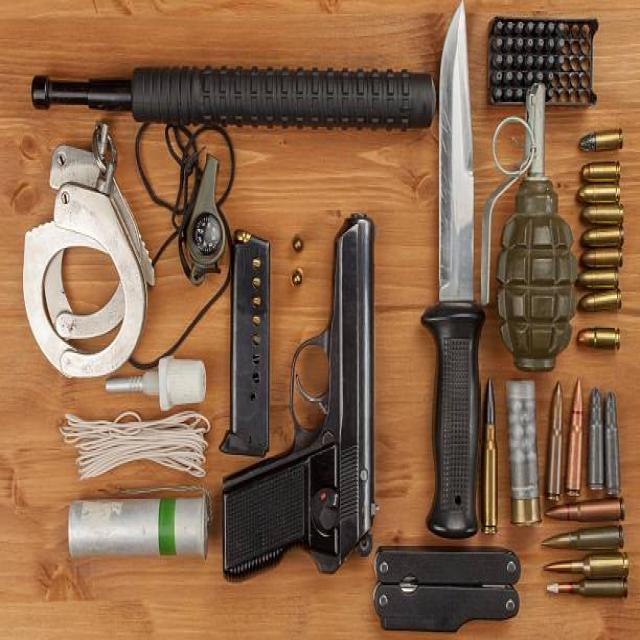grenade: (478, 79, 581, 379)
